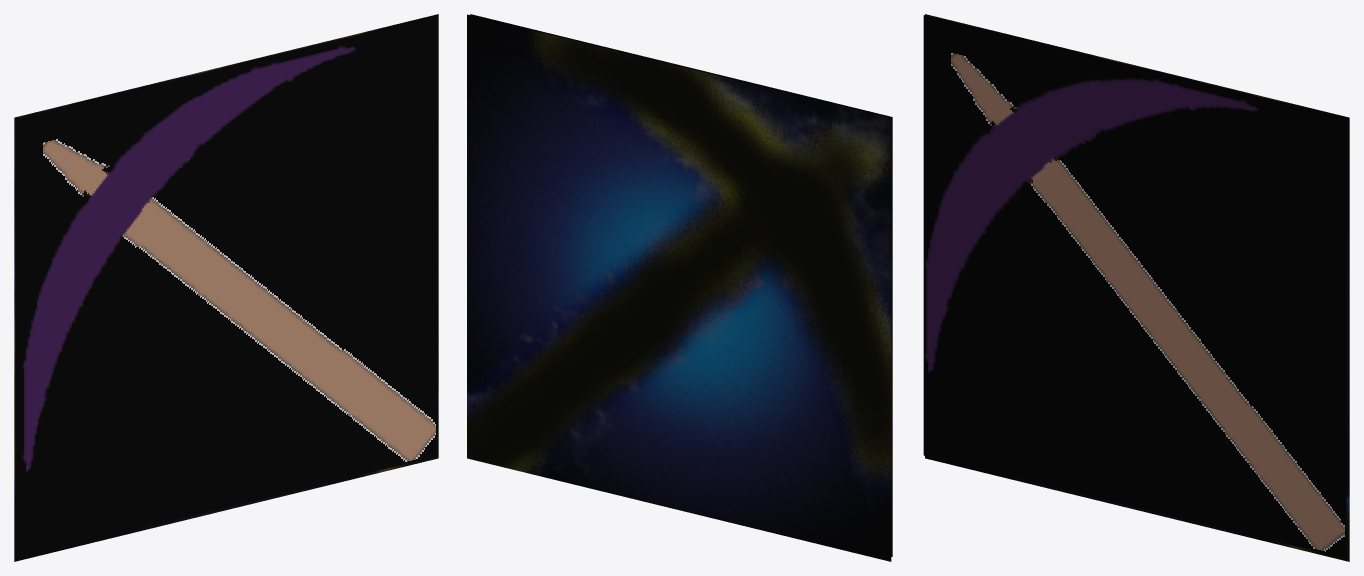
Rendered from picareta modelos.glb.
The picture shows the model from 3 angles, left to right: view 1: azimuth 30°, elevation 25°; view 2: azimuth 150°, elevation 25°; view 3: azimuth 330°, elevation 25°; orthographic projection.
Visible parts, largest first — view 1: node_id10, node_id14, node_id6; view 2: node_id6, node_id10; view 3: node_id10, node_id14, node_id6.
Boxes of the visible parts, x1,y1,x2,y2 form: node_id10: [15, 15, 438, 558]; node_id14: [22, 46, 356, 472]; node_id6: [14, 14, 438, 561]; node_id6: [467, 14, 891, 561]; node_id10: [470, 14, 892, 556]; node_id10: [923, 15, 1346, 558]; node_id14: [924, 78, 1258, 372]; node_id6: [925, 14, 1349, 561].
Size of the model in its own units: 0.2322 by 0.2322 by 0.0041.
Materials: 3 (3 with a texture image).
